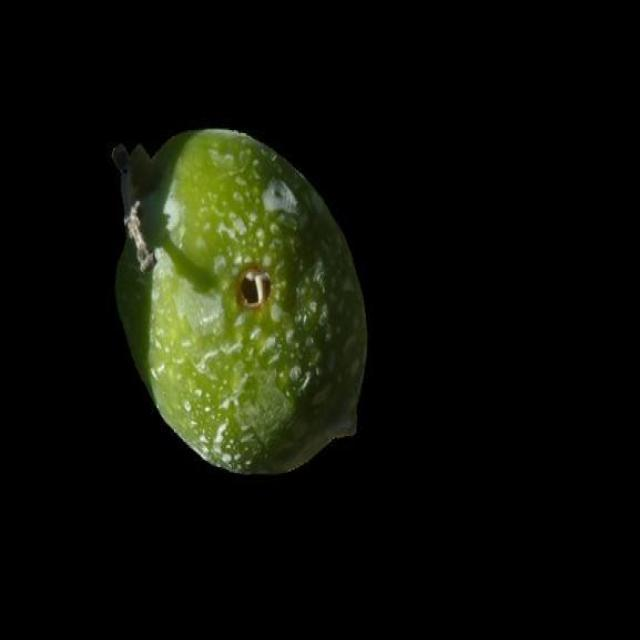Anthracnose: (112, 129, 366, 473)
